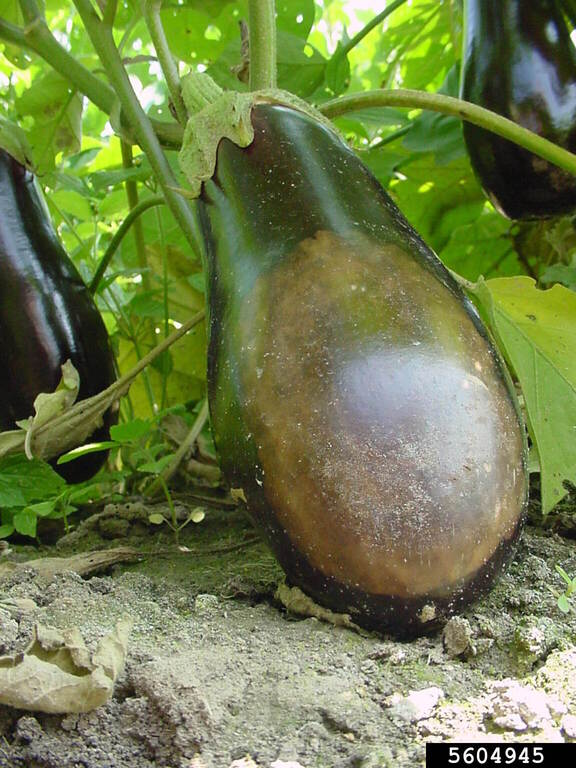Eggplant_PhytophthoraBlight: (164, 125, 548, 610)
